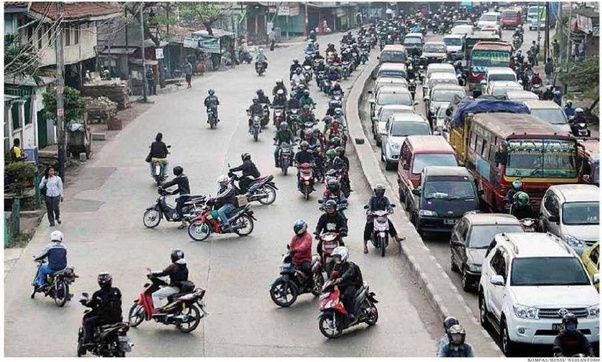car: (478, 233, 598, 356), (469, 116, 579, 216), (449, 211, 532, 294), (410, 167, 474, 241), (397, 137, 458, 213), (542, 183, 602, 258), (383, 112, 427, 169), (471, 42, 513, 94), (373, 89, 415, 139), (481, 68, 523, 106), (426, 85, 469, 121), (381, 44, 407, 78), (500, 7, 523, 32), (422, 41, 446, 64), (403, 32, 424, 58), (443, 35, 464, 58), (477, 12, 500, 32)
motorbike: (315, 247, 382, 340), (132, 252, 205, 336), (78, 273, 141, 362), (142, 166, 208, 229), (189, 177, 256, 239), (273, 220, 323, 303), (28, 230, 77, 308), (223, 154, 276, 208), (364, 186, 399, 260), (314, 201, 347, 261), (293, 142, 315, 200), (148, 133, 170, 185), (322, 151, 343, 203), (273, 122, 293, 176), (510, 192, 534, 235), (305, 130, 322, 178), (202, 88, 220, 129), (299, 105, 316, 147), (247, 97, 263, 140), (325, 123, 344, 159), (568, 108, 588, 141), (272, 90, 287, 132), (256, 89, 272, 127), (287, 92, 301, 134), (299, 90, 316, 120), (522, 63, 537, 92), (290, 68, 306, 92), (274, 79, 288, 105), (303, 55, 315, 85), (407, 66, 417, 102), (316, 59, 327, 91), (328, 67, 340, 96), (330, 84, 343, 110), (255, 49, 267, 77), (530, 73, 542, 101), (564, 101, 576, 126), (290, 58, 301, 85), (341, 50, 350, 80), (326, 43, 336, 68), (305, 42, 315, 66), (359, 41, 368, 65), (543, 85, 554, 104), (417, 55, 425, 81), (351, 45, 360, 67), (369, 27, 378, 48), (512, 30, 521, 51), (363, 32, 371, 54), (554, 90, 563, 109), (380, 31, 388, 51), (340, 36, 349, 53), (346, 31, 355, 47), (308, 31, 318, 45), (357, 27, 364, 43)
